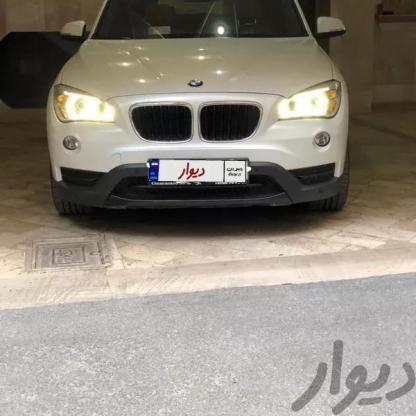Car: (45, 0, 351, 248)
